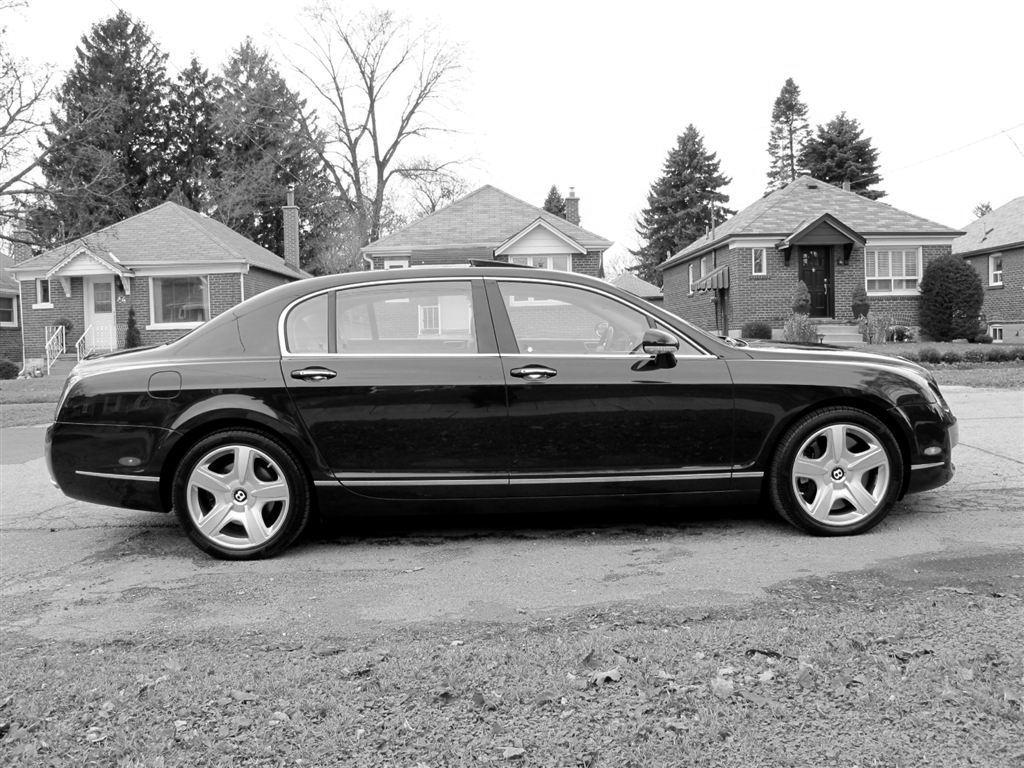car: (41, 266, 963, 579)
